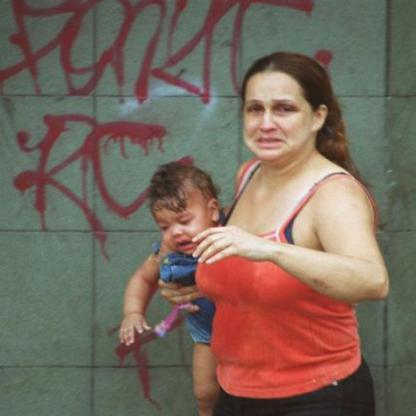face: (237, 56, 316, 164), (155, 173, 210, 257)
